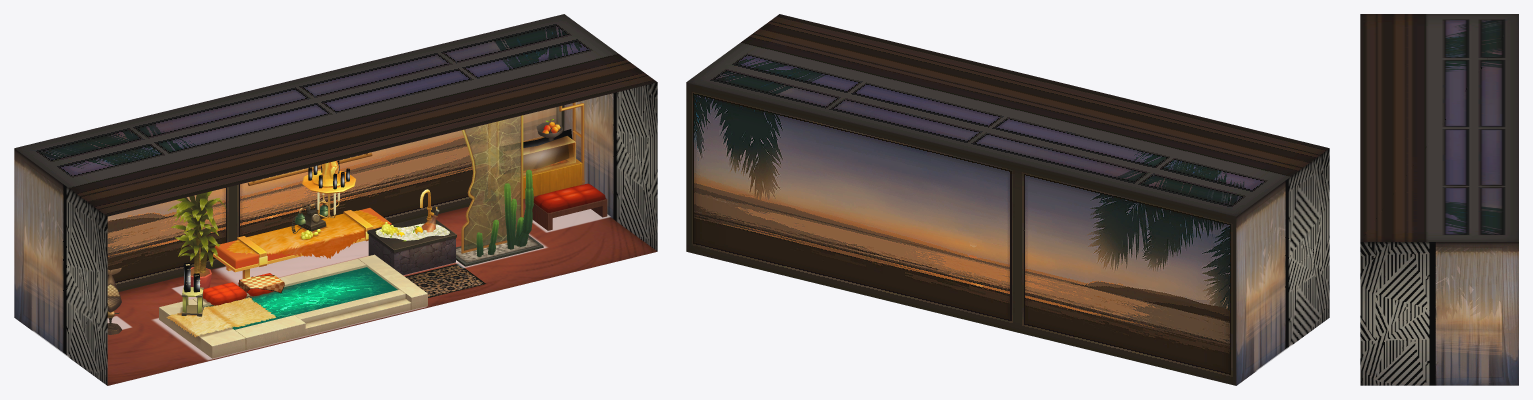
File: westCoast.glb
The picture shows the model from 3 angles, left to right: view 1: azimuth 30°, elevation 25°; view 2: azimuth 150°, elevation 25°; view 3: azimuth 270°, elevation 25°; orthographic projection. The views are drawn at different scales.
Visible parts, largest first — view 1: ROOM_room, ROOM_floor, furni_westCoast_bath_01, furni_westCoast_cactus_02, furni_westCoast_bath_03, furni_westCoast_icedPool_01, furni_westCoast_cactus_01, furni_westCoast_bed_02, furni_westCoast_fireplace_01, furni_westCoast_bed_01, furni_westCoast_bath_02, furni_westCoast_palm_02 (+13 smaller); view 2: ROOM_room, ROOM_LDoor; view 3: ROOM_room, ROOM_RDoor.
Part boxes in pixels (<box>): ROOM_room: <box>14,14,657,385</box>; ROOM_floor: <box>107,195,657,385</box>; furni_westCoast_bath_01: <box>159,254,427,358</box>; furni_westCoast_cactus_02: <box>464,116,520,250</box>; furni_westCoast_bath_03: <box>203,267,397,329</box>; furni_westCoast_icedPool_01: <box>367,189,456,275</box>; furni_westCoast_cactus_01: <box>456,115,543,266</box>; furni_westCoast_bed_02: <box>226,210,384,258</box>; furni_westCoast_fireplace_01: <box>487,102,584,204</box>; furni_westCoast_bed_01: <box>213,200,391,278</box>; furni_westCoast_bath_02: <box>166,297,275,337</box>; furni_westCoast_palm_02: <box>168,191,225,266</box>; ROOM_room: <box>686,14,1329,385</box>; ROOM_LDoor: <box>1297,251,1315,341</box>; ROOM_room: <box>1360,14,1518,385</box>; ROOM_RDoor: <box>1383,320,1416,385</box>.
Size of the model in its own units: 7.57 by 2.2 by 2.23.
Materials: 9 (9 with a texture image).
